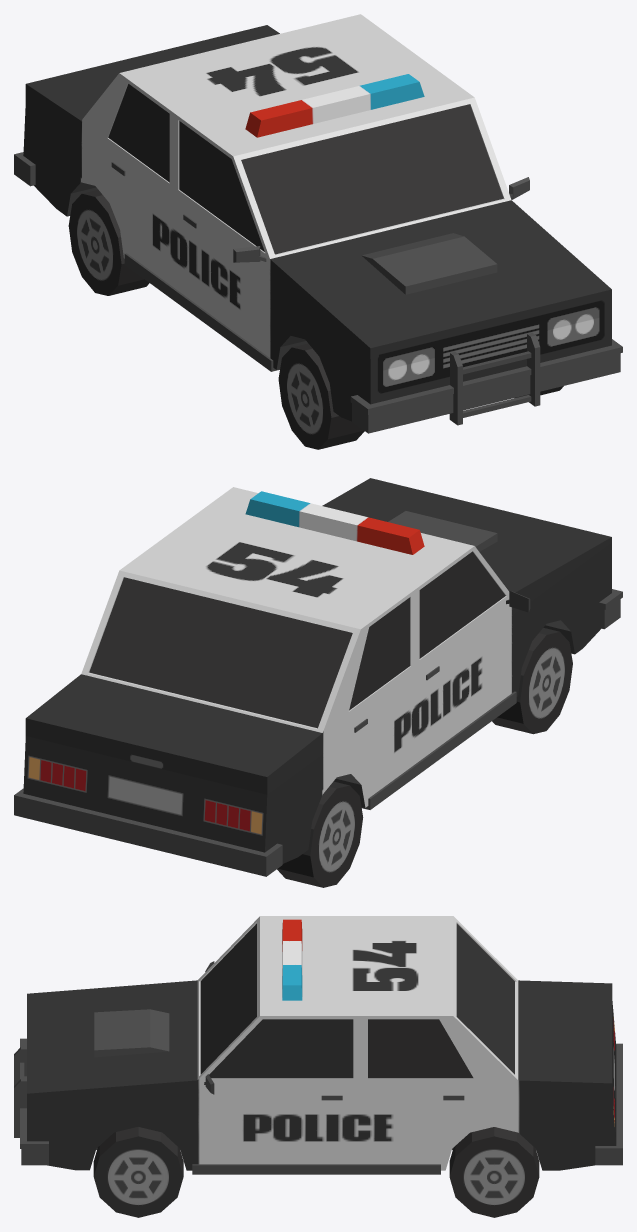
The model's file is Car_PoliceCars.glb.
3 views of the same model, one above another, from view 1: azimuth 30°, elevation 25°; view 2: azimuth 150°, elevation 25°; view 3: azimuth 270°, elevation 25° (orthographic). The views are drawn at different scales.
Parts seen in each view (by area): view 1: vehicle, wheel_2, wheel_4; view 2: vehicle, wheel_4, wheel_2; view 3: vehicle, wheel_1, wheel_3.
Part boxes in pixels (x1,y1,x2,y2): vehicle: (14,14,622,433); wheel_2: (278,343,364,449); wheel_4: (68,189,149,295); vehicle: (14,478,622,876); wheel_4: (277,781,363,887); wheel_2: (492,628,572,734); vehicle: (14,916,622,1174); wheel_1: (93,1127,183,1217); wheel_3: (449,1127,539,1217).
Size of the model in its own units: 3.06 by 2.51 by 6.43.
5 materials, 5 textured.
